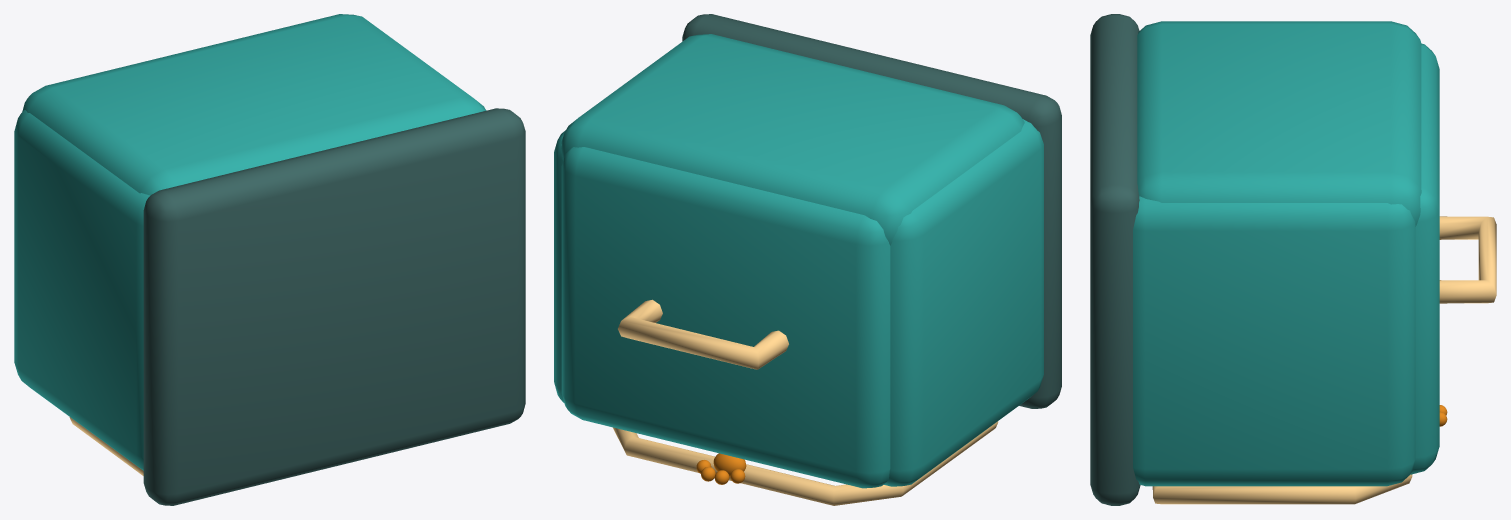
File: RunnerCarrier.fbx
3 renders of one model, left to right at view 1: azimuth 30°, elevation 25°; view 2: azimuth 150°, elevation 25°; view 3: azimuth 270°, elevation 25°, orthographic. The views are drawn at different scales.
Parts seen in each view (by area): view 1: RunnerCarrier; view 2: RunnerCarrier; view 3: RunnerCarrier.
Boxes of the visible parts, box(x1,y1,x2,y2) form: RunnerCarrier: box(14, 14, 525, 505); RunnerCarrier: box(554, 14, 1061, 505); RunnerCarrier: box(1090, 14, 1496, 505).
Bounding box in the file's own units: 0.88 × 0.737 × 0.8077.
